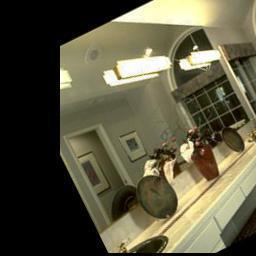Lavamanos: (110, 223, 182, 256)
Sanitario: (223, 188, 256, 244)
